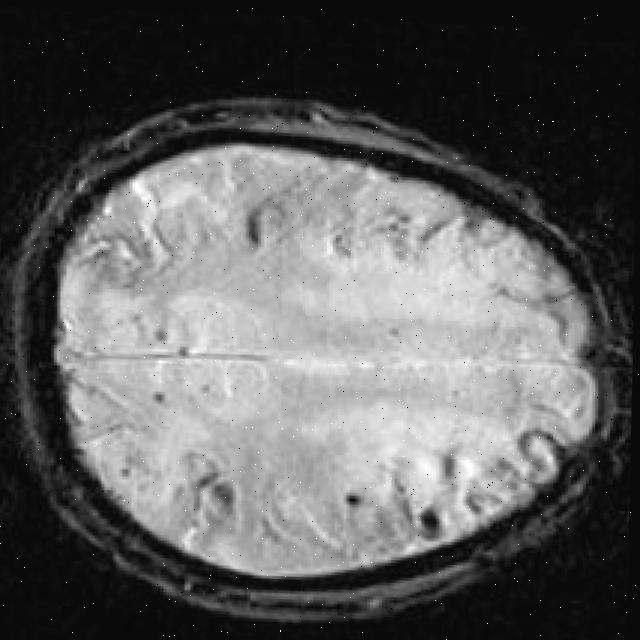NoTumor: (3, 79, 628, 640)
